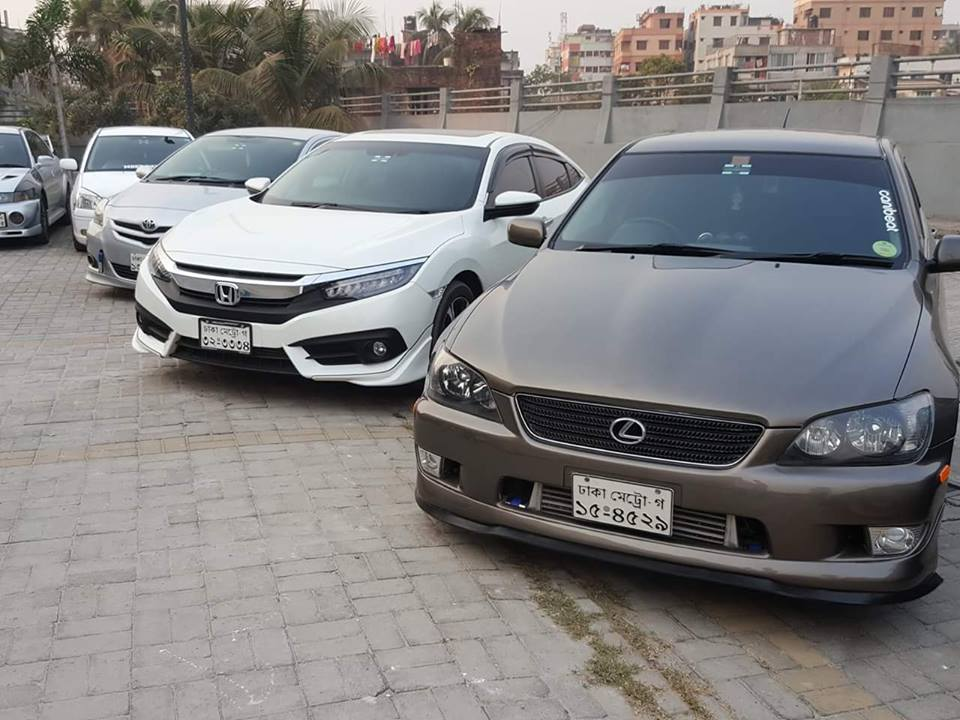registration_plate: (571, 472, 674, 537), (200, 319, 251, 355)
